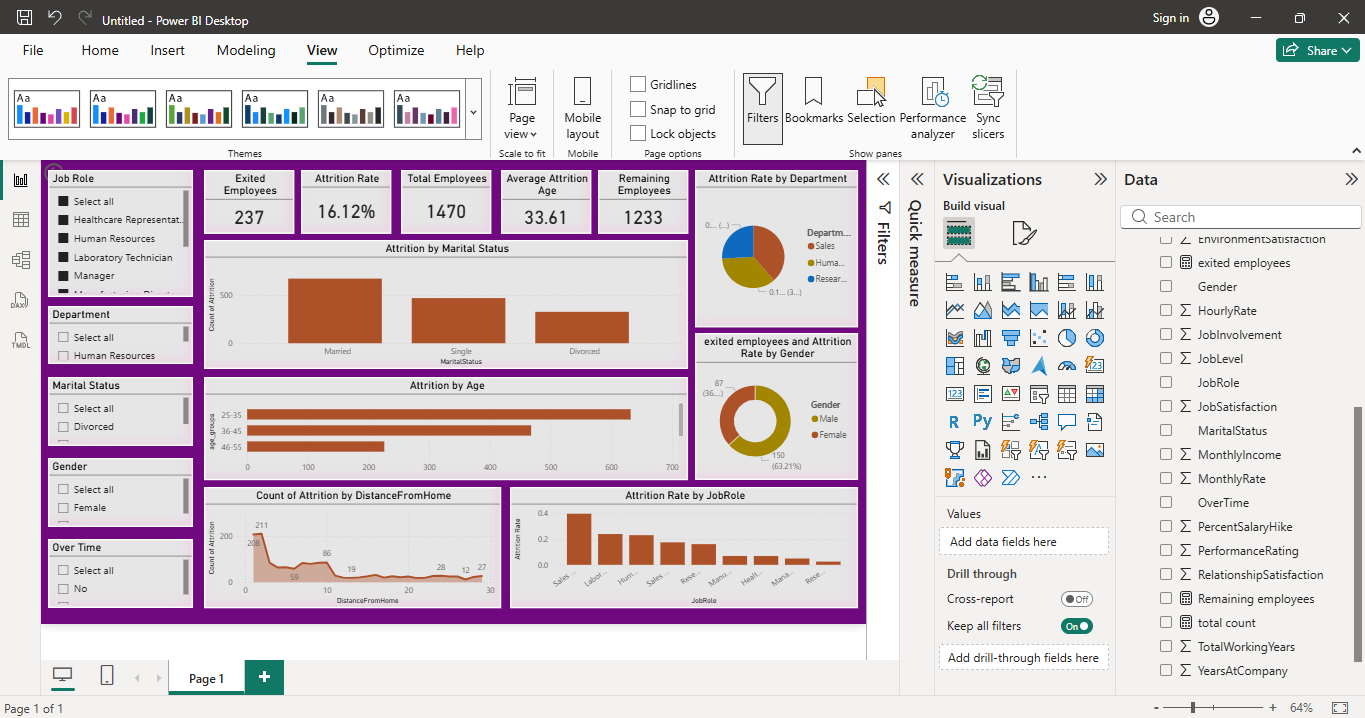

What the dashboard file says about the page in this screenshot:
{"tool":"powerbi","page":{"name":"Page 1","canvas":[1280,720],"ordinal":0},"visuals":[{"type":"card","title":"Total Employees","fields":{"Values":["datab employee_view.total count"]},"box":[558.5,15.5,139.6,99.3],"z":0},{"type":"clusteredBarChart","title":" Attrition by Age ","fields":{"Y":["CountNonNull(datab employee_view.Attrition)"],"Category":["datab employee_view.age_groups"]},"box":[252.9,336.7,750.9,159.8],"z":1000},{"type":"clusteredColumnChart","title":" Attrition by Marital Status","fields":{"Y":["CountNonNull(datab employee_view.Attrition)"],"Category":["datab employee_view.MaritalStatus"]},"box":[252.9,124.1,750.9,200.1],"z":2000},{"type":"actionButton","box":[0,0,100,40],"z":3000},{"type":"card","title":"Remaining Employees","fields":{"Values":["datab employee_view.Remaining employees"]},"box":[864.2,15.5,139.6,99.3],"z":4000},{"type":"card","title":"Exited Employees","fields":{"Values":["datab employee_view.exited employees"]},"box":[252.9,15.5,139.6,99.3],"z":5000},{"type":"card","title":"Attrition Rate","fields":{"Values":["datab employee_view.Attrition Rate"]},"box":[403.4,15.5,139.6,99.3],"z":6000},{"type":"card","title":"Average Attrition Age","fields":{"Values":["datab employee_view.Average Attrition Age"]},"box":[713.7,15.5,139.6,99.3],"z":7000},{"type":"lineChart","fields":{"Y":["CountNonNull(datab employee_view.Attrition)"],"Category":["datab employee_view.DistanceFromHome"]},"box":[252.9,507.3,460.8,187.7],"z":8000},{"type":"donutChart","fields":{"Category":["datab employee_view.Gender"],"Y":["datab employee_view.exited employees","datab employee_view.Attrition Rate"]},"box":[1014.7,268.4,252.9,228.1],"z":9000},{"type":"pieChart","fields":{"Category":["datab employee_view.Department"],"Y":["datab employee_view.Attrition Rate"]},"box":[1014.7,15.5,252.9,243.6],"z":10000},{"type":"clusteredColumnChart","fields":{"Y":["datab employee_view.Attrition Rate"],"Category":["datab employee_view.JobRole"]},"box":[727.7,507.3,539.9,187.7],"z":11000},{"type":"slicer","title":"Department","fields":{"Values":["datab employee_view.Department"]},"box":[10.9,226.5,225,90],"z":12000},{"type":"slicer","title":"Gender","fields":{"Values":["datab employee_view.Gender"]},"box":[10.9,462.4,225,107.1],"z":13000},{"type":"slicer","title":"Job Role","fields":{"Values":["datab employee_view.JobRole"]},"box":[10.9,15.5,225,197],"z":14000},{"type":"slicer","title":"Marital Status","fields":{"Values":["datab employee_view.MaritalStatus"]},"box":[10.9,336.7,225,107.1],"z":15000},{"type":"slicer","title":"Over Time","fields":{"Values":["datab employee_view.OverTime"]},"box":[10.9,588,225,107.1],"z":16000}]}

Visuals, with their boxes on the page's 1280x720 design canvas (x1, y1, x2, y2). These are canvas units, not pixel positions in the 1365x718 screenshot, which may show the page scaled, cropped or inside an application window:
"Total Employees" card: 558:16:698:115
" Attrition by Age " clusteredBarChart: 253:337:1004:496
" Attrition by Marital Status" clusteredColumnChart: 253:124:1004:324
actionButton: 0:0:100:40
"Remaining Employees" card: 864:16:1004:115
"Exited Employees" card: 253:16:392:115
"Attrition Rate" card: 403:16:543:115
"Average Attrition Age" card: 714:16:853:115
lineChart - CountNonNull(datab employee_view.Attrition) x datab employee_view.DistanceFromHome: 253:507:714:695
donutChart - datab employee_view.Gender x datab employee_view.exited employees: 1015:268:1268:496
pieChart - datab employee_view.Department x datab employee_view.Attrition Rate: 1015:16:1268:259
clusteredColumnChart - datab employee_view.Attrition Rate x datab employee_view.JobRole: 728:507:1268:695
"Department" slicer: 11:226:236:316
"Gender" slicer: 11:462:236:570
"Job Role" slicer: 11:16:236:212
"Marital Status" slicer: 11:337:236:444
"Over Time" slicer: 11:588:236:695
